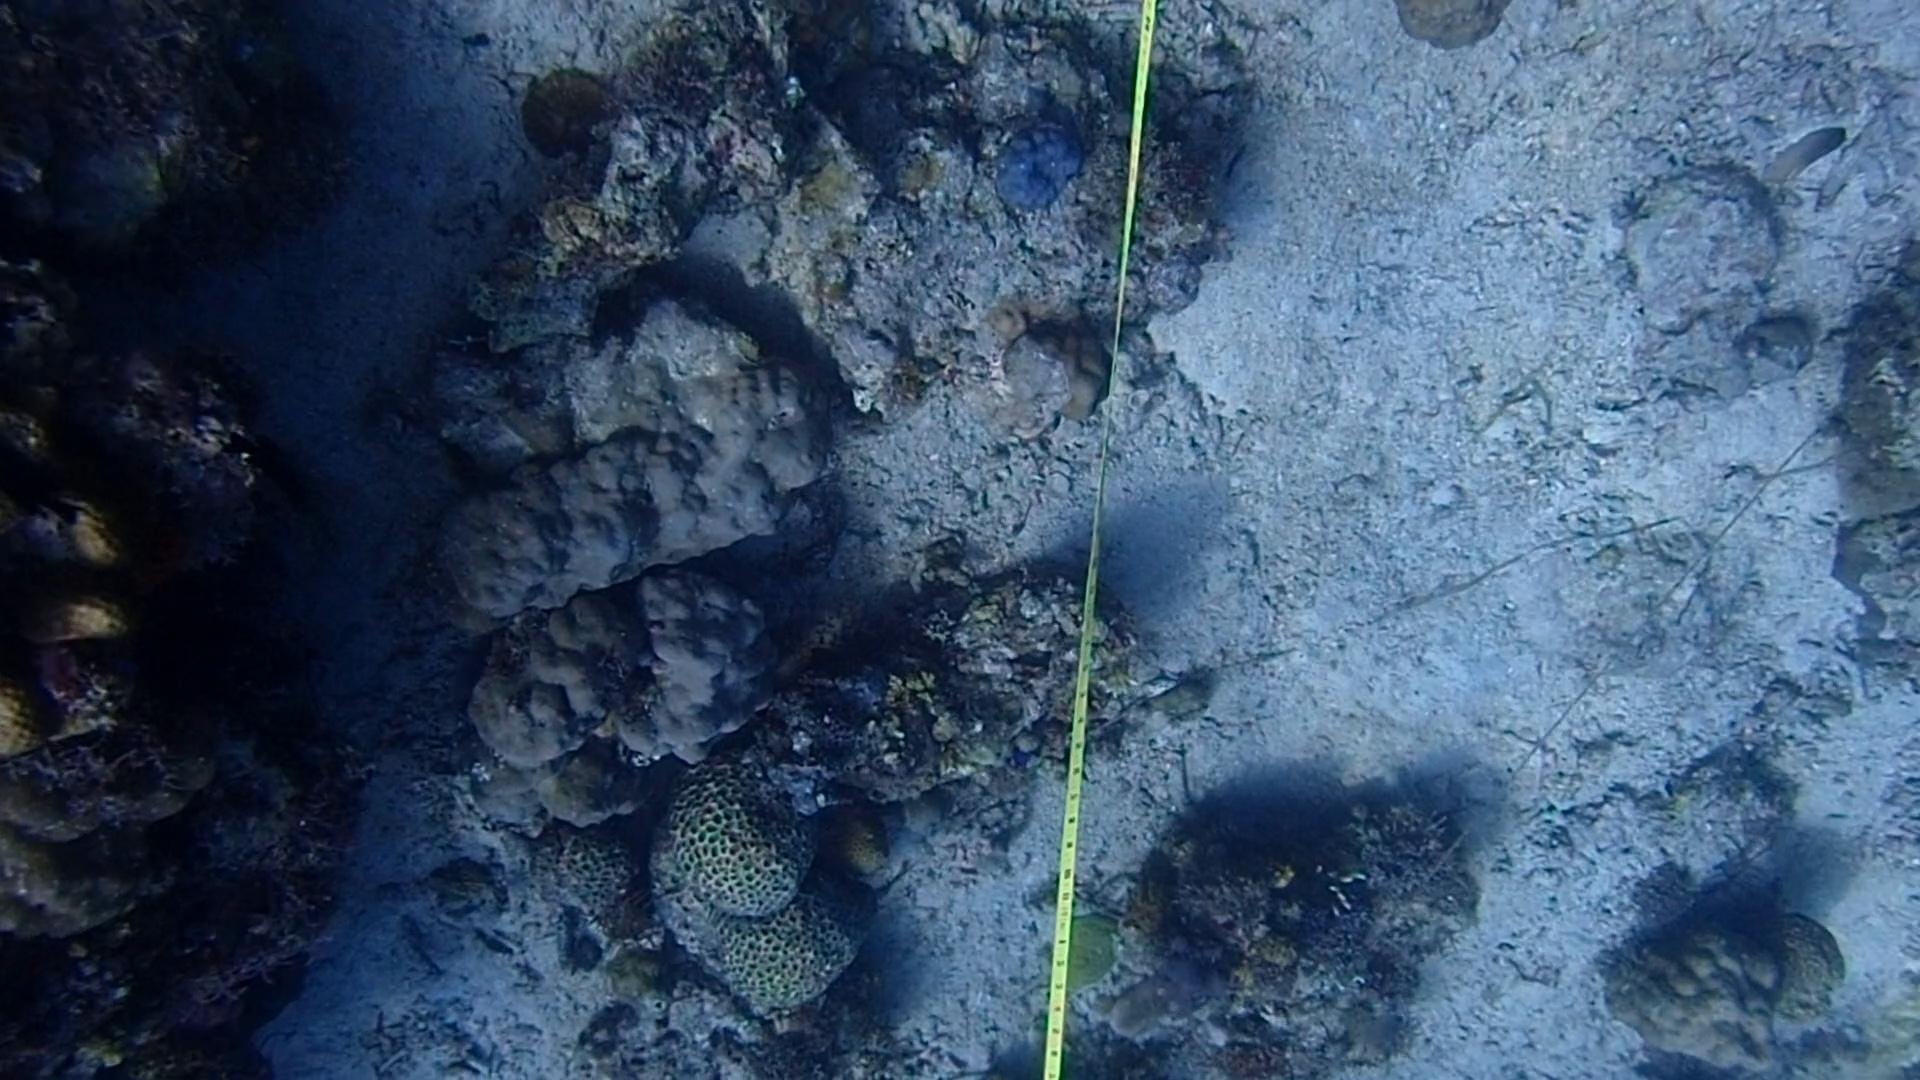Dark Fish: (0, 446, 80, 537), (448, 625, 496, 702)
Light Fish: (1750, 117, 1844, 196)
